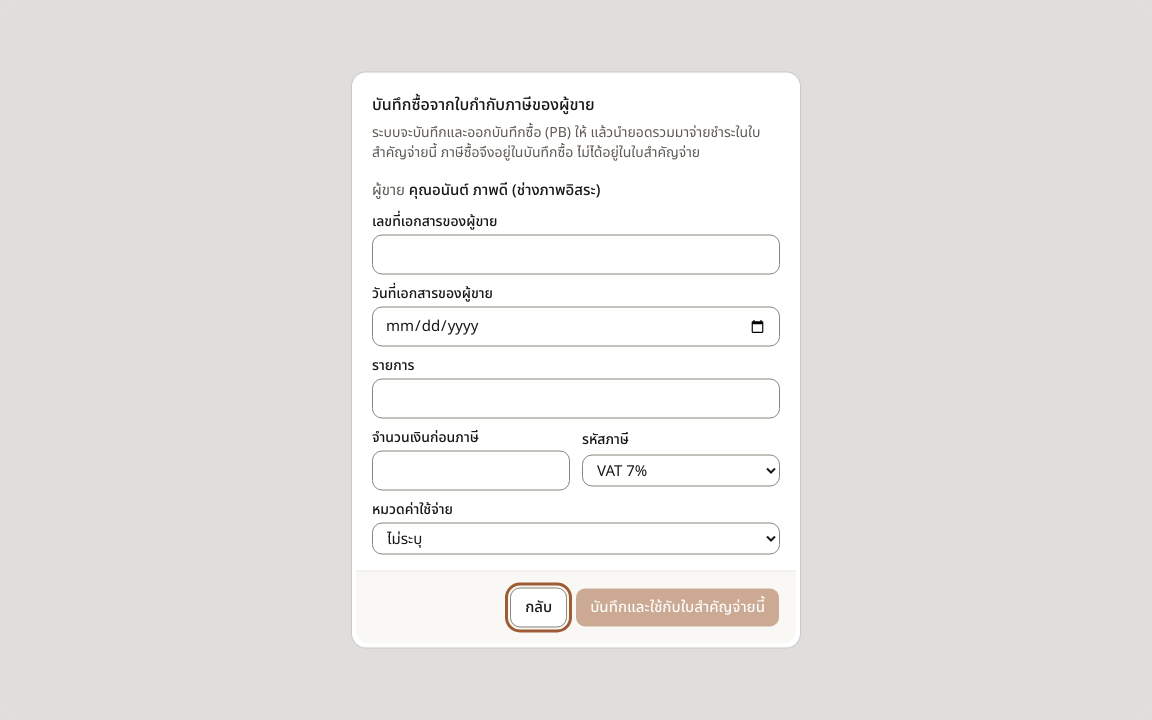
QuickBillDialog (D-16) › an unregistered vendor with VAT is refused by the server (ม.82/5) and no bill is left behind
Step 1. Type "QB-2" into the field labelled "เลขที่เอกสารของผู้ขาย" → (576, 254), box [372,234,780,274]
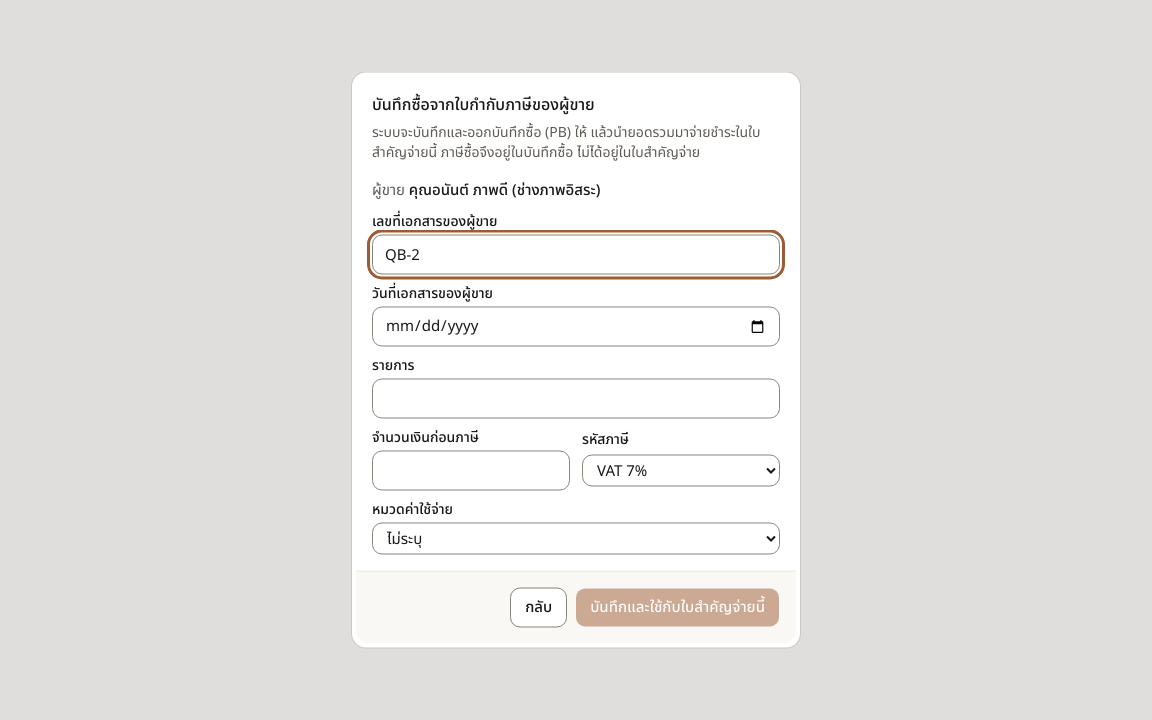
Step 2. Type "ค่าบริการ" into the field labelled "รายการ" → (576, 398), box [372,378,780,418]
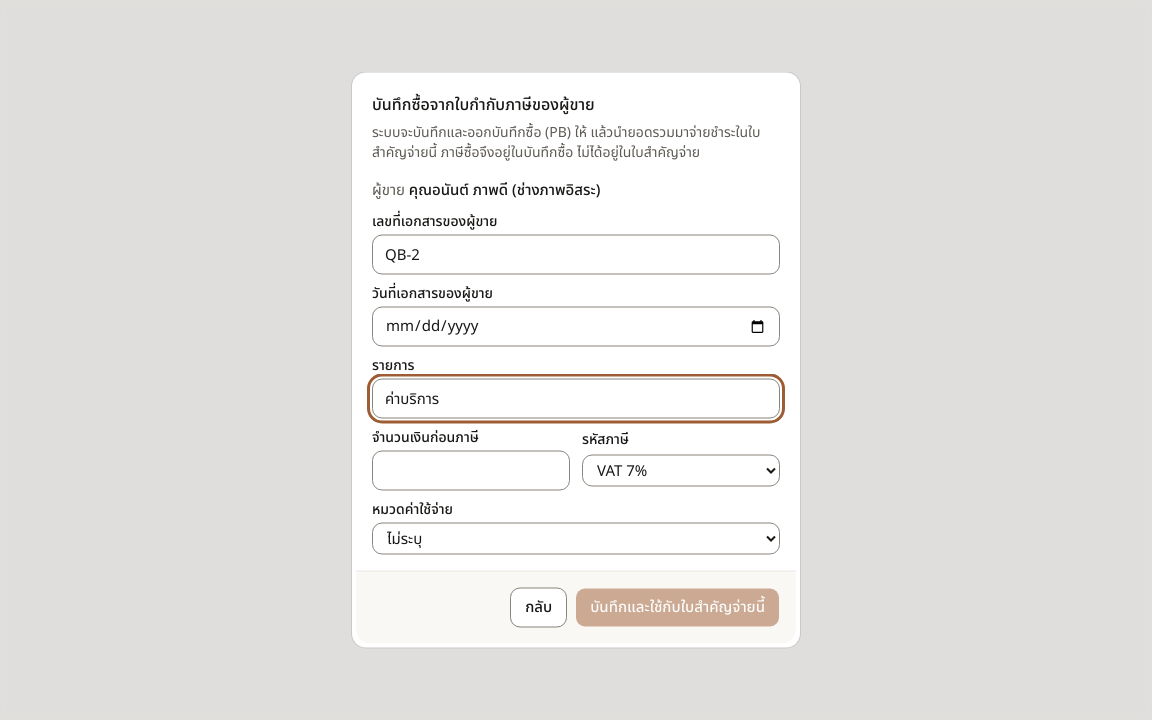
Step 3. Type "1000" into the field labelled "จำนวนเงินก่อนภาษี" → (471, 470), box [372,450,570,490]
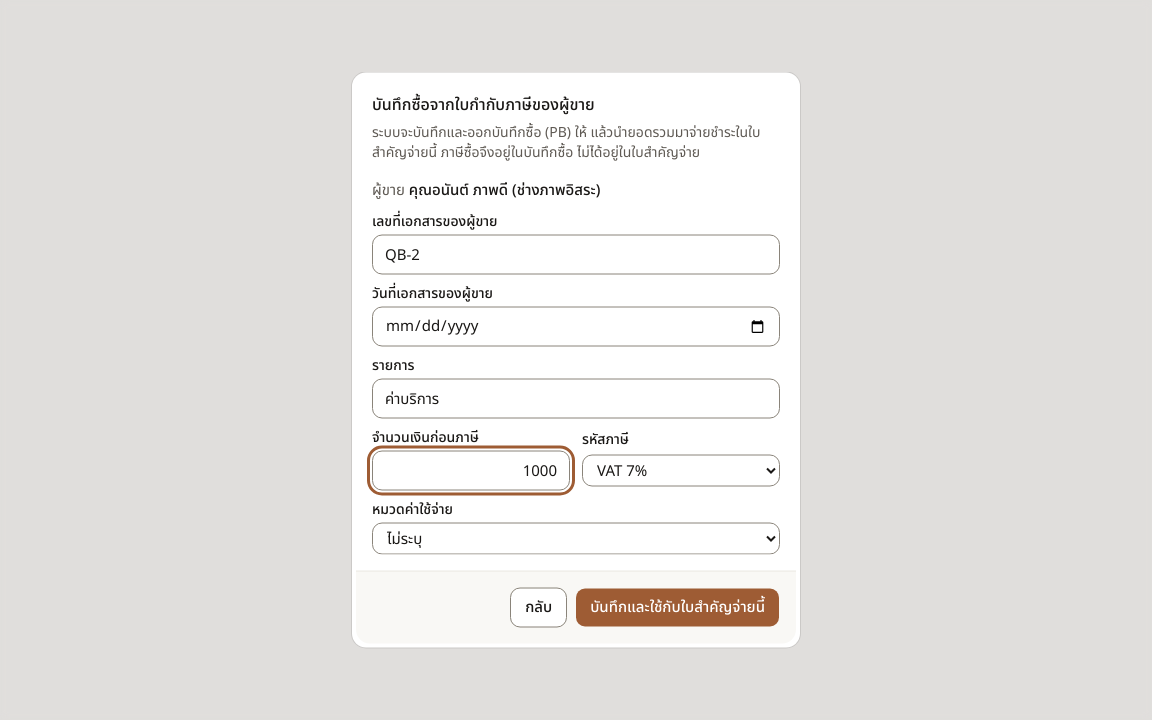
Step 4. Click the button "บันทึกและใช้กับใบสำคัญจ่ายนี้" → (678, 608), box [575,588,780,628]
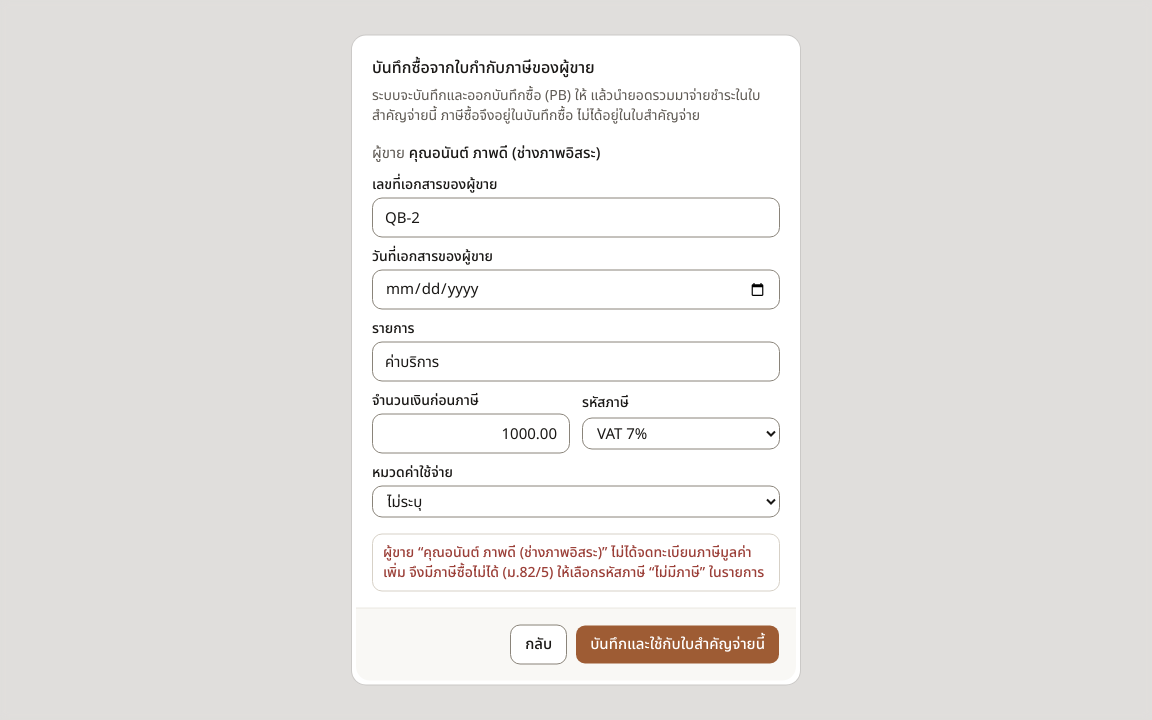
Expected: the message shows "ไม่ได้จดทะเบียนภาษีมูลค่าเพิ่ม", [383,542,764,582]
